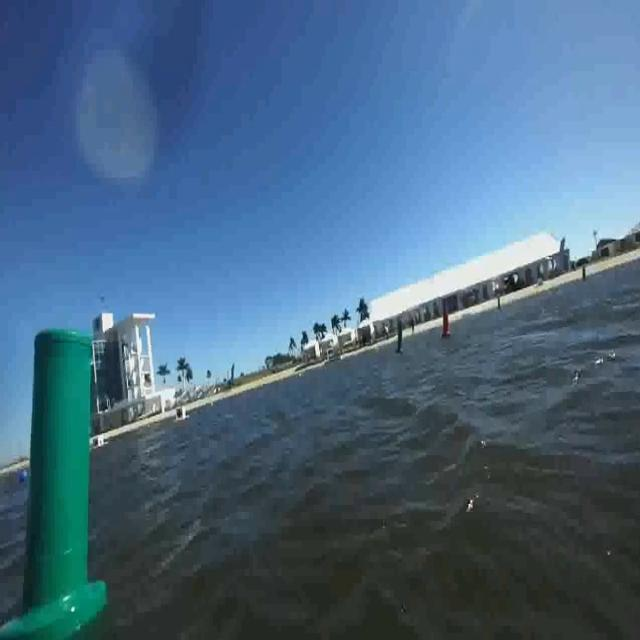green-column-buoy: (4, 327, 110, 640)
